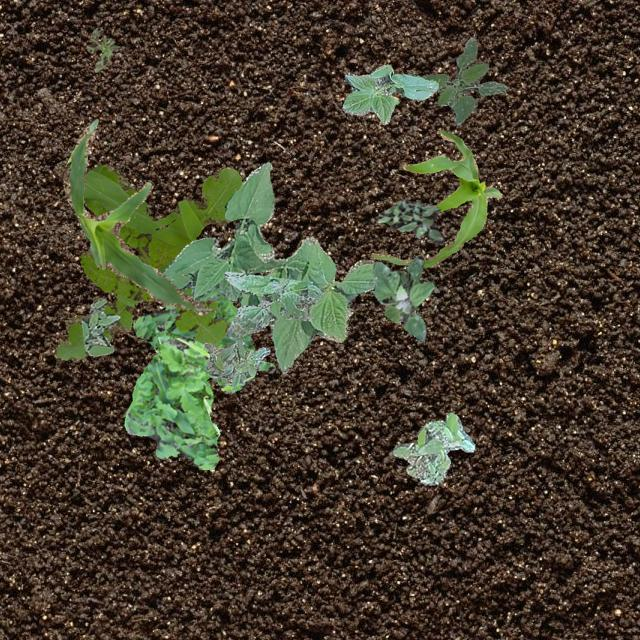crop: (160, 160, 376, 372), (63, 118, 214, 314), (370, 130, 500, 266), (342, 64, 438, 124)
weed: (52, 164, 242, 360), (132, 286, 274, 392), (124, 324, 218, 469), (419, 34, 506, 124), (222, 270, 322, 338), (392, 412, 474, 484), (370, 256, 432, 341), (202, 338, 268, 386), (376, 198, 444, 242), (80, 296, 118, 356), (85, 26, 118, 70)
